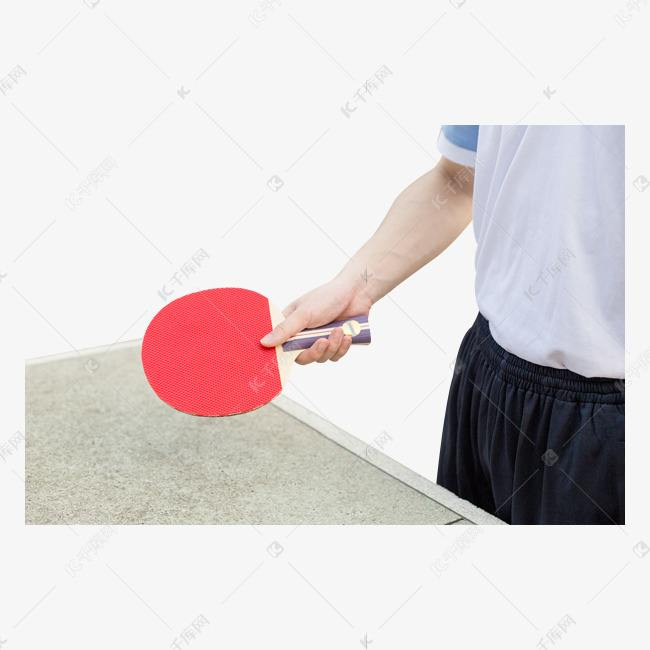no-phone: (136, 270, 405, 419)
